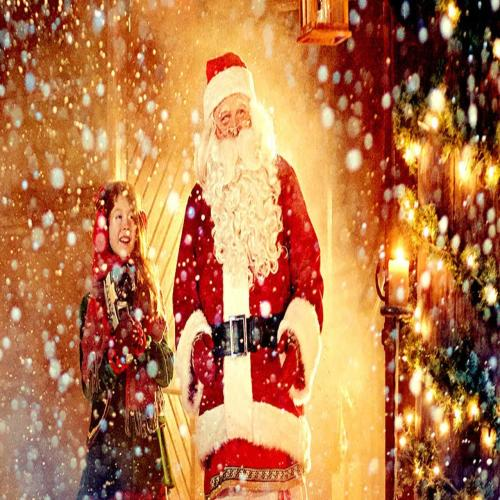Santa: (172, 51, 324, 500)
